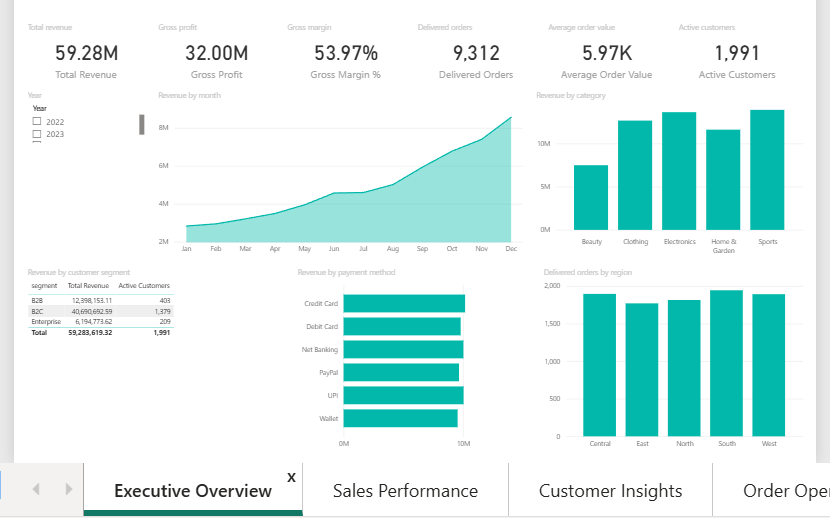

This screenshot's page, from the dashboard's own definition file:
{"tool":"powerbi","page":{"name":"Executive Overview","canvas":[1280,720],"ordinal":0},"visuals":[{"type":"card","title":"Total revenue","fields":{"Values":["Fact_Orders.Total Revenue"]},"box":[16,16,196,96],"z":0},{"type":"card","title":"Gross profit","fields":{"Values":["Fact_Orders.Gross Profit"]},"box":[224,16,196,96],"z":0},{"type":"card","title":"Gross margin","fields":{"Values":["Fact_Orders.Gross Margin %"]},"box":[432,16,196,96],"z":0},{"type":"card","title":"Delivered orders","fields":{"Values":["Fact_Orders.Delivered Orders"]},"box":[640,16,196,96],"z":0},{"type":"card","title":"Average order value","fields":{"Values":["Fact_Orders.Average Order Value"]},"box":[848,16,196,96],"z":0},{"type":"card","title":"Active customers","fields":{"Values":["Fact_Orders.Active Customers"]},"box":[1056,16,196,96],"z":0},{"type":"slicer","title":"Year","fields":{"Values":["Dim_Calendar.Year"]},"box":[16,124,196,88],"z":0},{"type":"areaChart","title":"Revenue by month","fields":{"Category":["Dim_Calendar.MonthName"],"Y":["Fact_Orders.Total Revenue"]},"box":[224,124,592,270],"z":0},{"type":"clusteredColumnChart","title":"Revenue by category","fields":{"Category":["Dim_Products.category"],"Y":["Fact_Orders.Total Revenue"]},"box":[828,124,436,270],"z":0},{"type":"tableEx","title":"Revenue by customer segment","fields":{"Values":["Dim_Customers.segment","Fact_Orders.Total Revenue","Fact_Orders.Active Customers"]},"box":[16,406,420,298],"z":0},{"type":"barChart","title":"Revenue by payment method","fields":{"Category":["Fact_Orders.payment_method"],"Y":["Fact_Orders.Total Revenue"]},"box":[448,406,380,298],"z":0},{"type":"clusteredColumnChart","title":"Delivered orders by region","fields":{"Category":["Dim_Customers.region"],"Y":["Fact_Orders.Delivered Orders"]},"box":[840,406,424,298],"z":0}]}

Visuals, with their boxes on the page's 1280x720 design canvas (x1, y1, x2, y2). These are canvas units, not pixel positions in the 830x518 screenshot, which may show the page scaled, cropped or inside an application window:
"Total revenue" card: pyautogui.locateOnScreen(16, 16, 212, 112)
"Gross profit" card: pyautogui.locateOnScreen(224, 16, 420, 112)
"Gross margin" card: pyautogui.locateOnScreen(432, 16, 628, 112)
"Delivered orders" card: pyautogui.locateOnScreen(640, 16, 836, 112)
"Average order value" card: pyautogui.locateOnScreen(848, 16, 1044, 112)
"Active customers" card: pyautogui.locateOnScreen(1056, 16, 1252, 112)
"Year" slicer: pyautogui.locateOnScreen(16, 124, 212, 212)
"Revenue by month" areaChart: pyautogui.locateOnScreen(224, 124, 816, 394)
"Revenue by category" clusteredColumnChart: pyautogui.locateOnScreen(828, 124, 1264, 394)
"Revenue by customer segment" tableEx: pyautogui.locateOnScreen(16, 406, 436, 704)
"Revenue by payment method" barChart: pyautogui.locateOnScreen(448, 406, 828, 704)
"Delivered orders by region" clusteredColumnChart: pyautogui.locateOnScreen(840, 406, 1264, 704)
